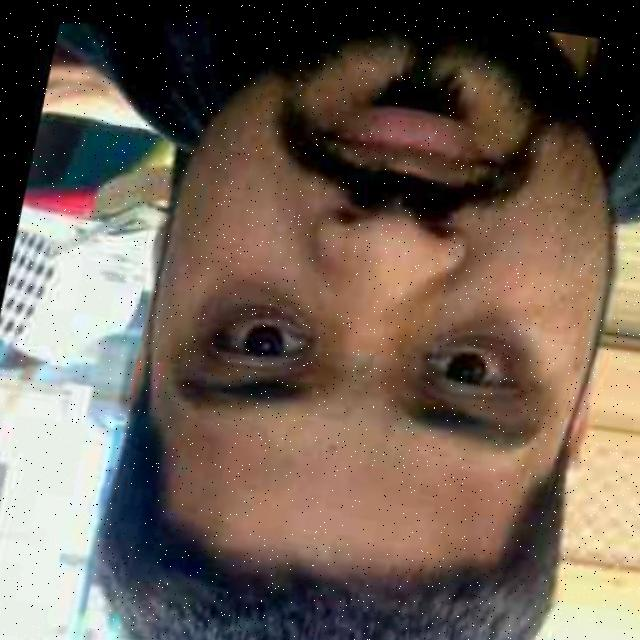puffy_eyes: (204, 278, 313, 331), (432, 321, 524, 369)
